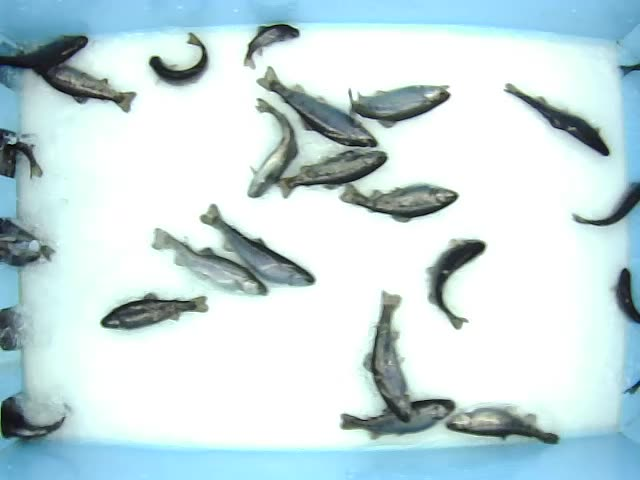fish: (255, 66, 379, 147), (200, 202, 318, 287), (504, 81, 611, 154), (152, 227, 266, 294), (360, 289, 411, 420), (423, 239, 487, 329), (278, 149, 385, 199), (249, 96, 298, 200), (38, 63, 136, 113), (444, 406, 560, 445), (338, 182, 457, 220), (349, 82, 451, 126), (339, 398, 453, 435), (99, 294, 208, 330), (1, 31, 89, 71), (149, 33, 208, 85), (245, 21, 303, 70)
